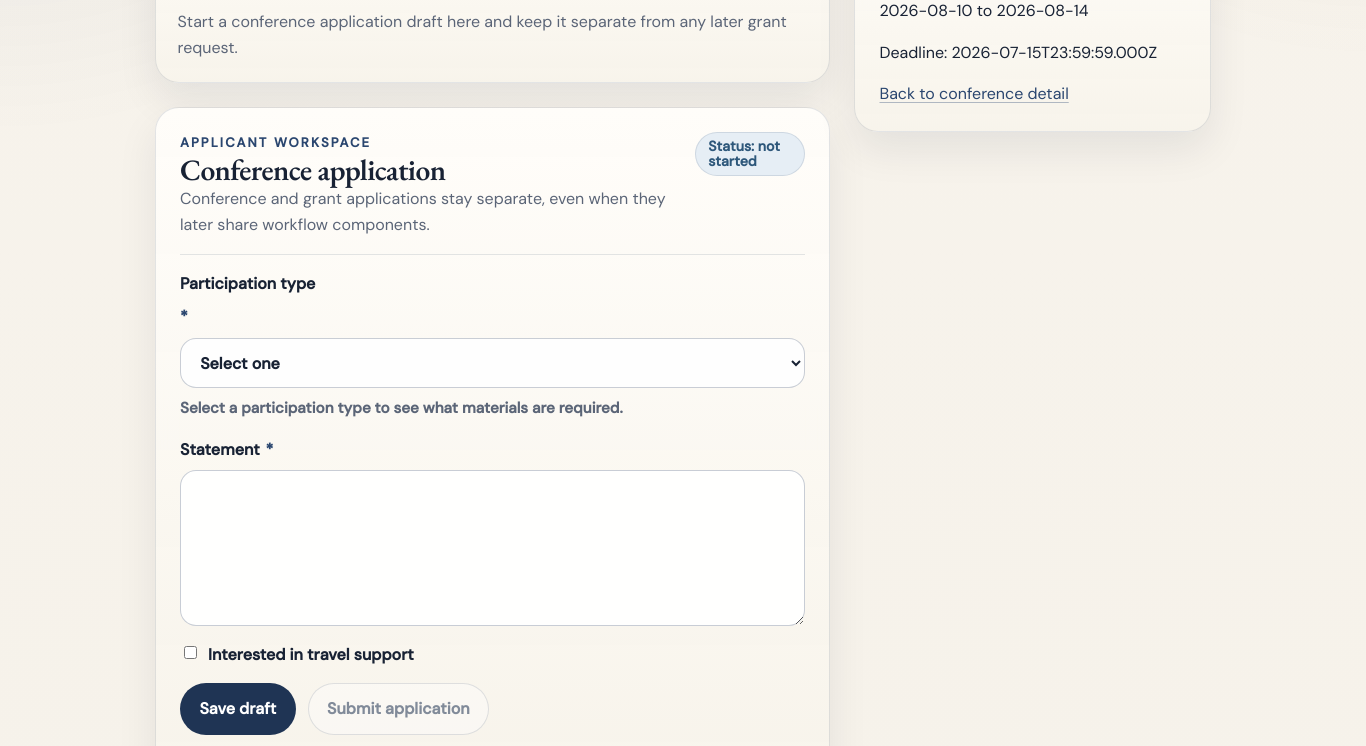
Scenario: conference apply page › preserves abstract values when toggling back from participant to talk
This screenshot has width=1366, height=746.
(page scrolled)
Expected: the heading "Conference application" is shown, x1=180 y1=150 x2=446 y2=189
Select "talk" in the dropdown labelled "Participation type *" at (493, 363), box x1=180 y1=338 x2=806 y2=388
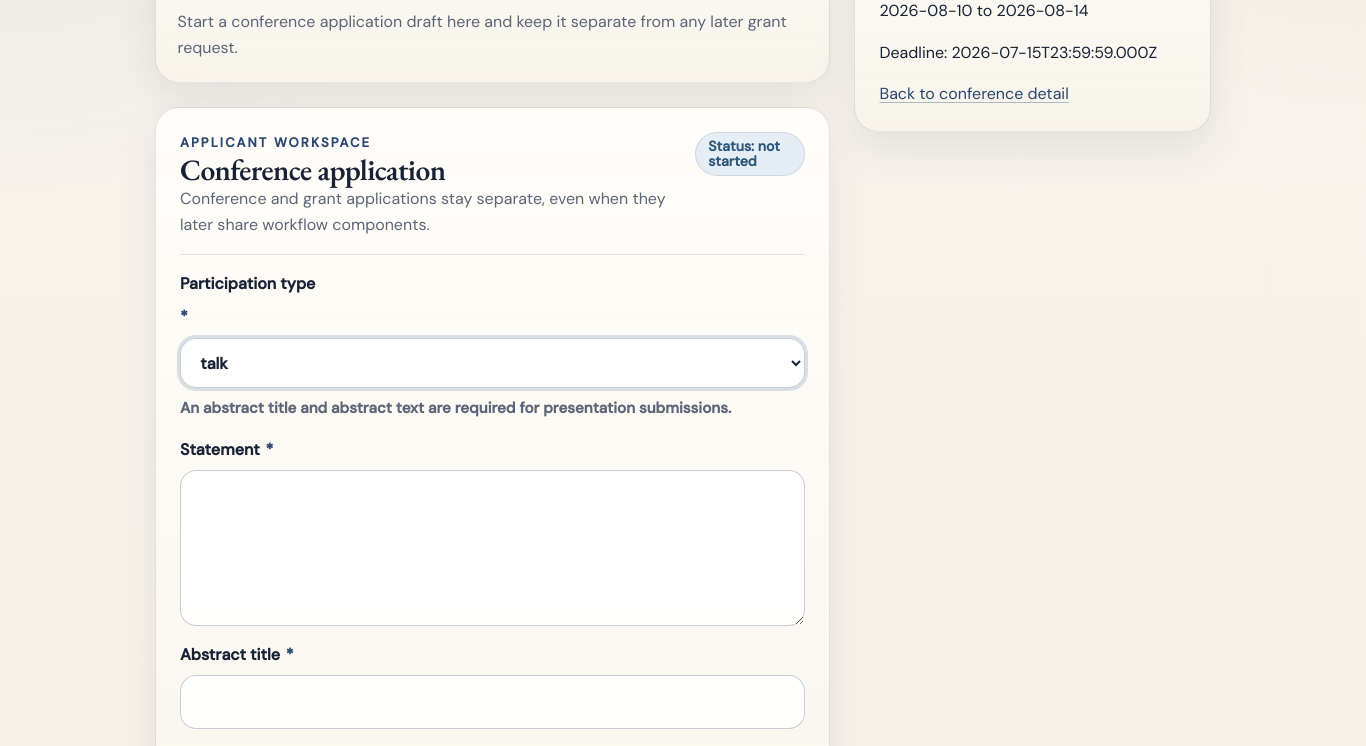
Type "Stored abstract title" into the field labelled "Abstract title *" at (493, 702), box x1=180 y1=675 x2=806 y2=729
(page scrolled)
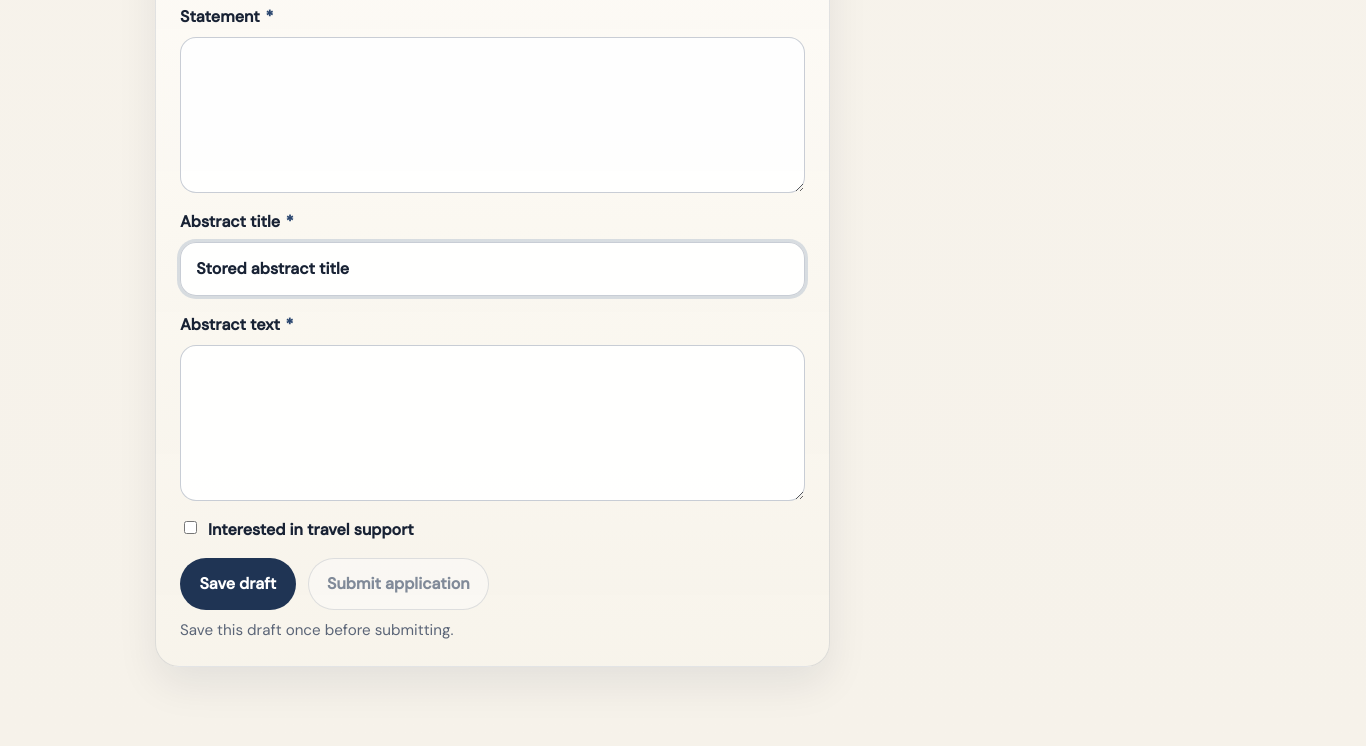
Type "Stored abstract text" into the text box labelled "Abstract text *" at (493, 423), box x1=180 y1=345 x2=806 y2=501
(page scrolled)
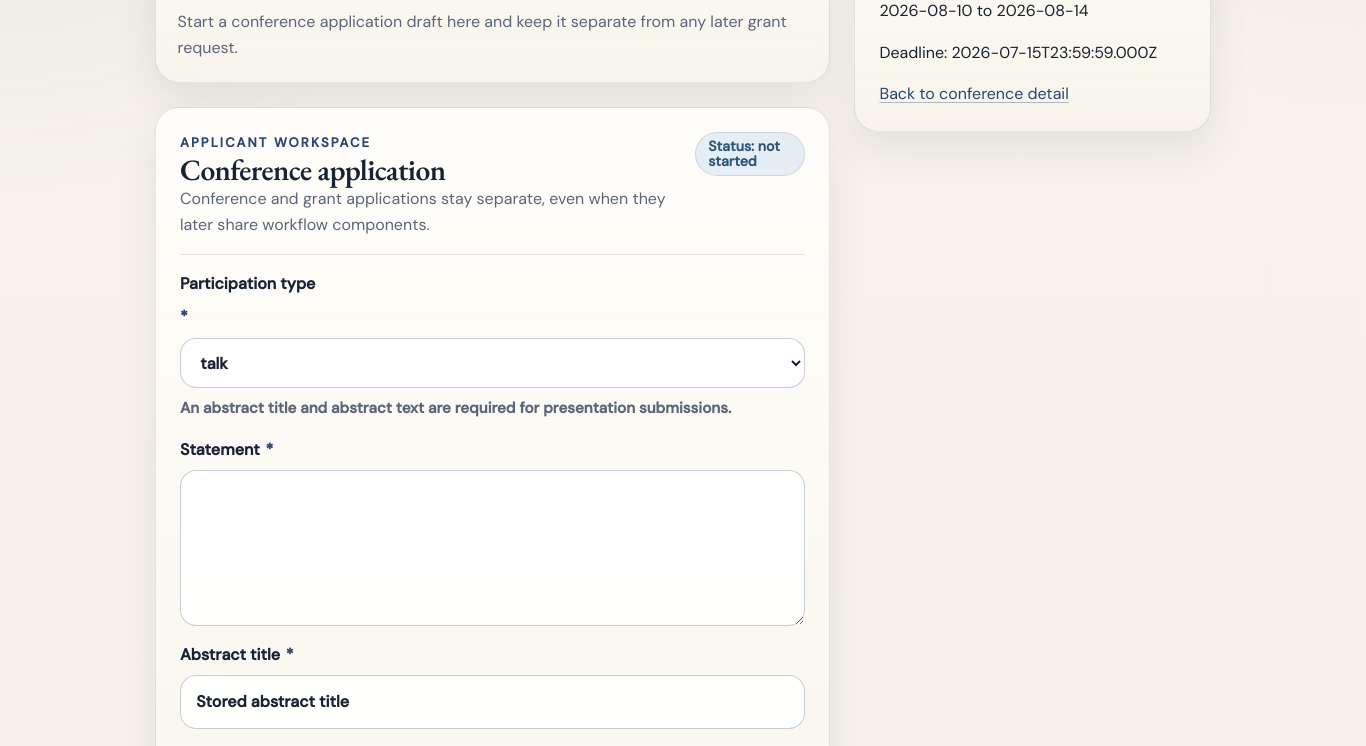
Select "participant" in the dropdown labelled "Participation type *" at (493, 363), box x1=180 y1=338 x2=806 y2=388
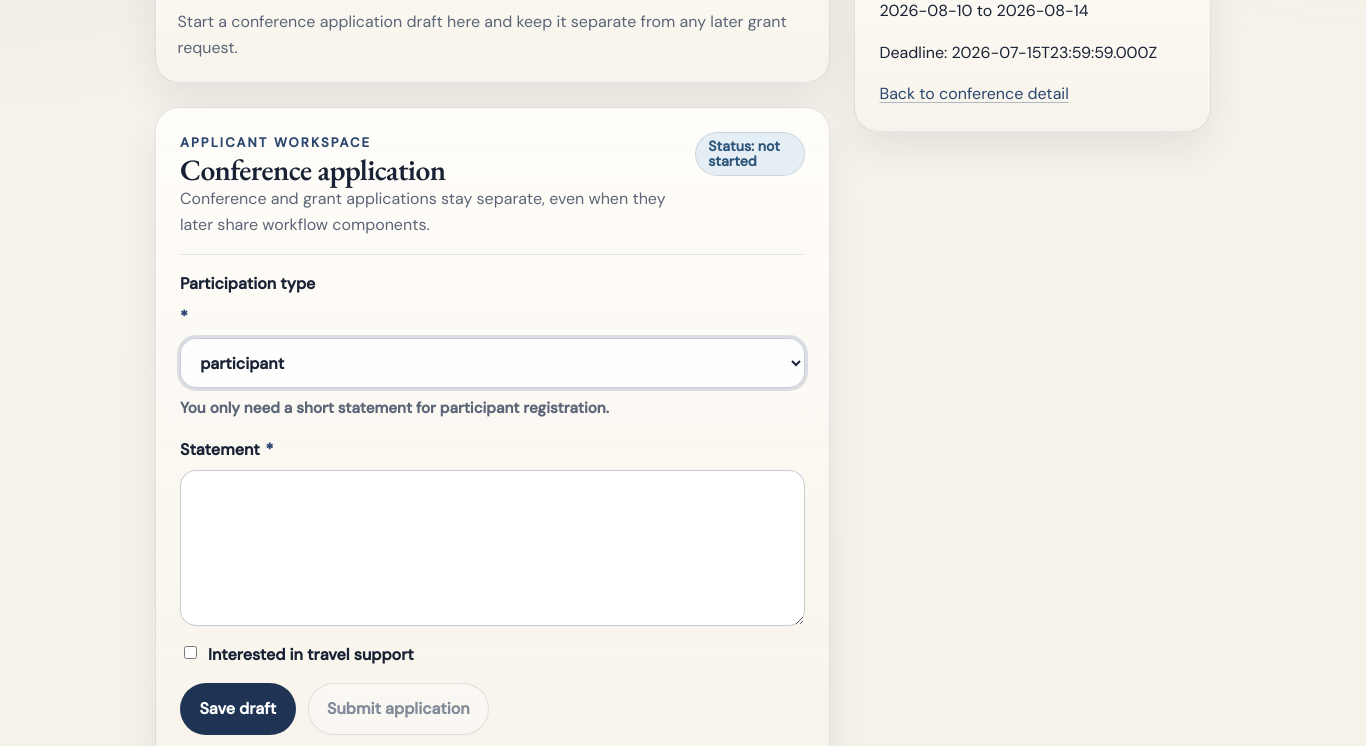
Now the text labelled "abstract title" is gone
Now the text labelled "abstract text" is gone
Select "talk" in the dropdown labelled "Participation type *" at (493, 363), box x1=180 y1=338 x2=806 y2=388
(page scrolled)
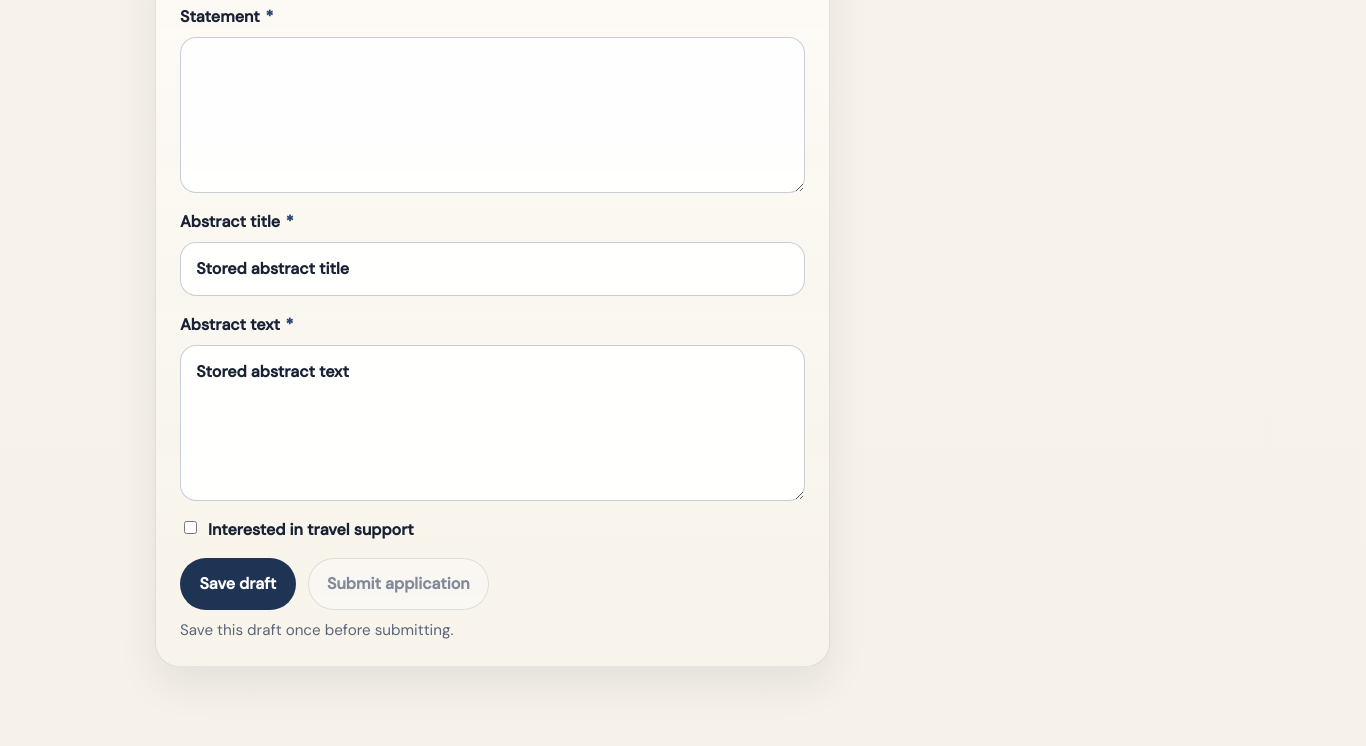
Now the field showing "Stored abstract title" is shown, box x1=180 y1=242 x2=806 y2=296
Now the text box showing "Stored abstract text" is shown, box x1=180 y1=345 x2=806 y2=501
